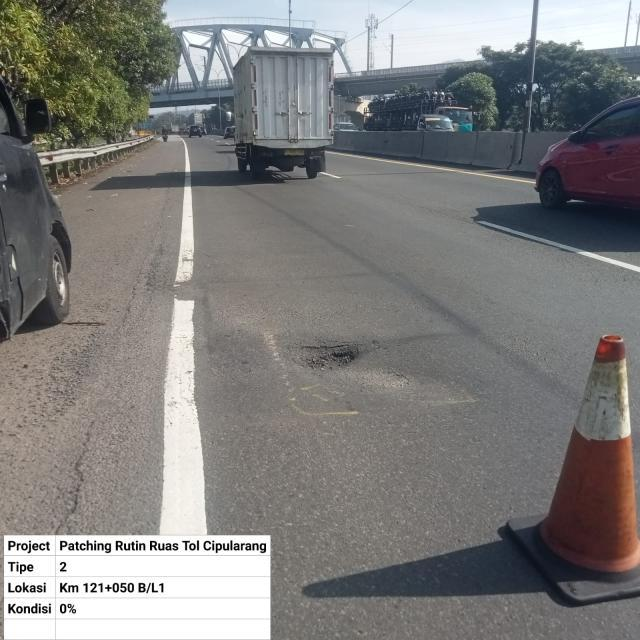Buraco: (285, 342, 362, 373)
